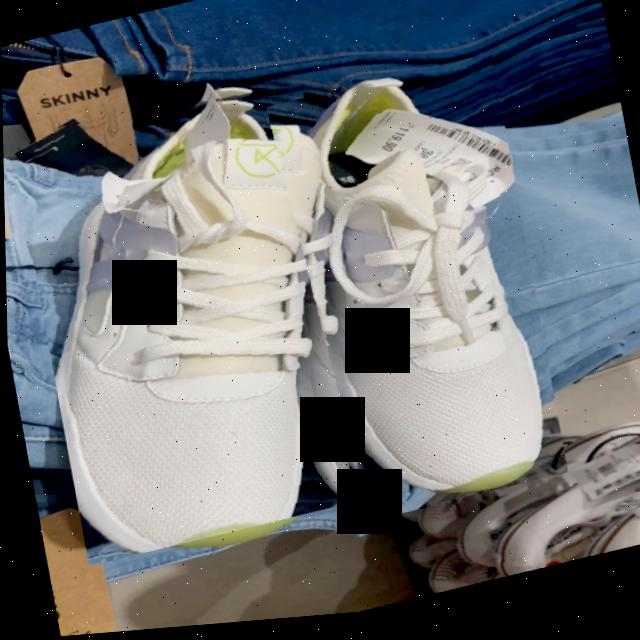shoe: (54, 101, 316, 555), (311, 87, 538, 505)
